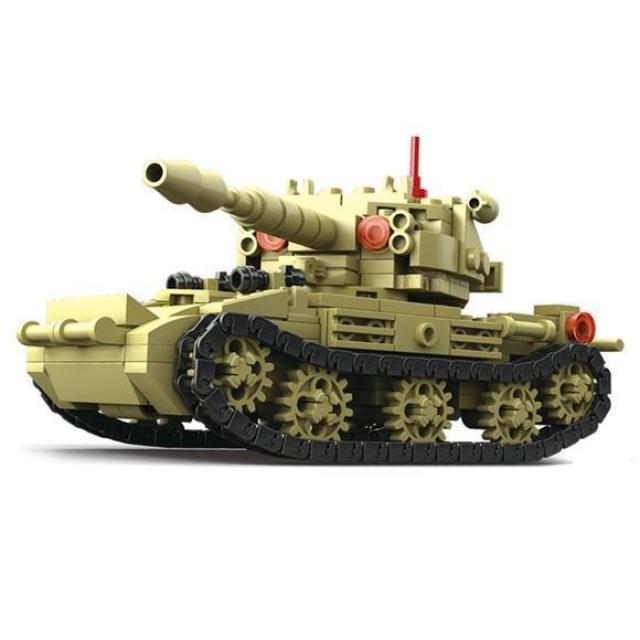Tanks: (21, 143, 564, 463)
